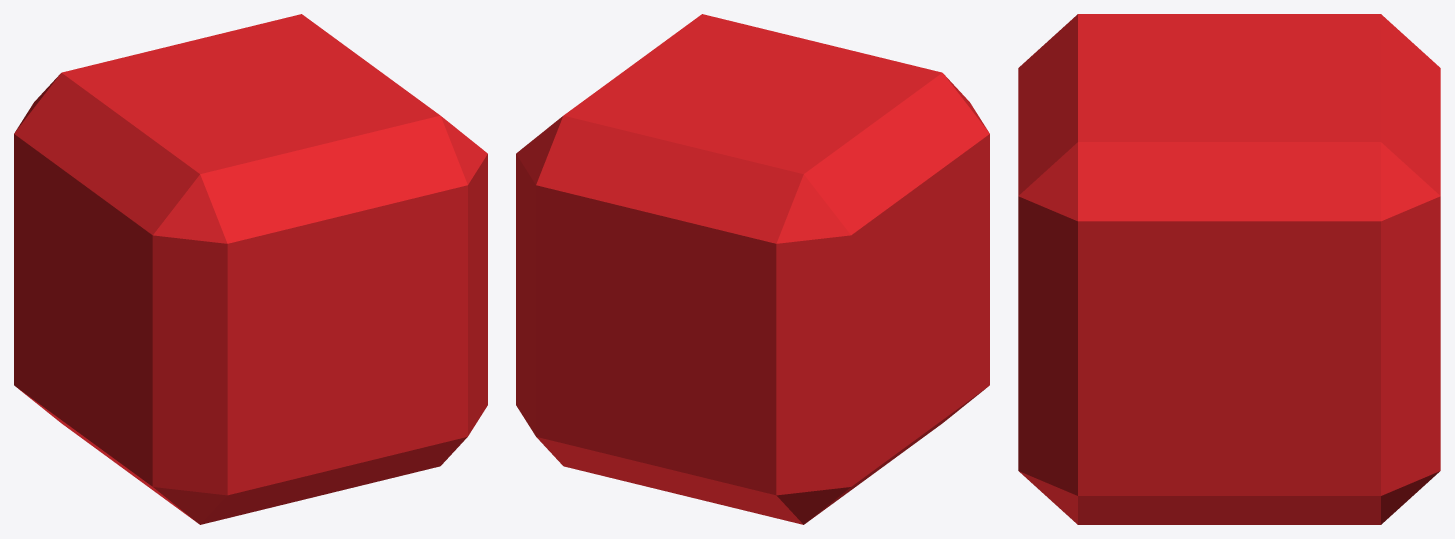
The model's file is Red.fbx.
The picture shows the model from 3 angles, left to right: view 1: azimuth 30°, elevation 25°; view 2: azimuth 150°, elevation 25°; view 3: azimuth 270°, elevation 25°; orthographic projection. The views are drawn at different scales.
Visible parts, largest first — view 1: Cube; view 2: Cube; view 3: Cube.
Part boxes in pixels (x1,y1,x2,y2): Cube: [14, 14, 487, 524]; Cube: [516, 14, 989, 524]; Cube: [1018, 14, 1440, 524].
Bounding box in the file's own units: 100 × 100 × 100.
